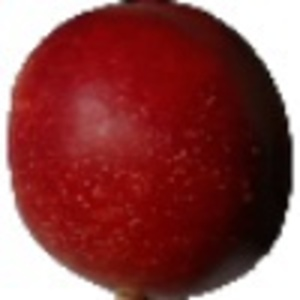nectarina: (5, 1, 292, 300)
